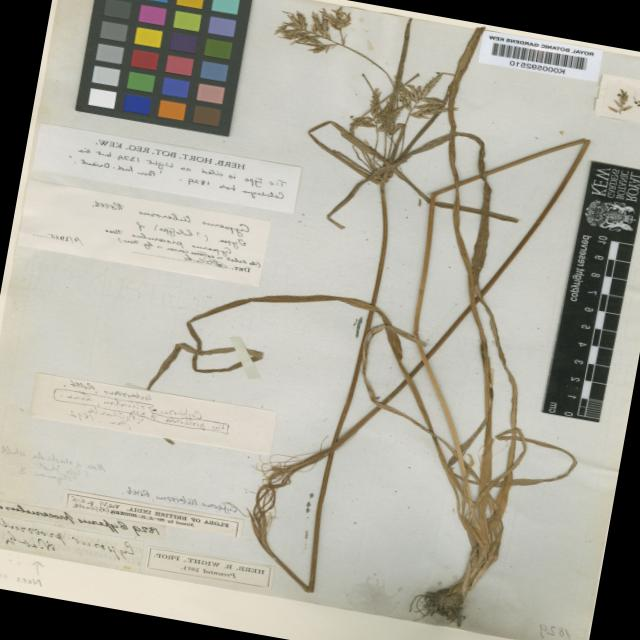cyperus: (339, 50, 472, 142), (268, 0, 370, 66)
